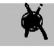not correct: (20, 2, 49, 42)
